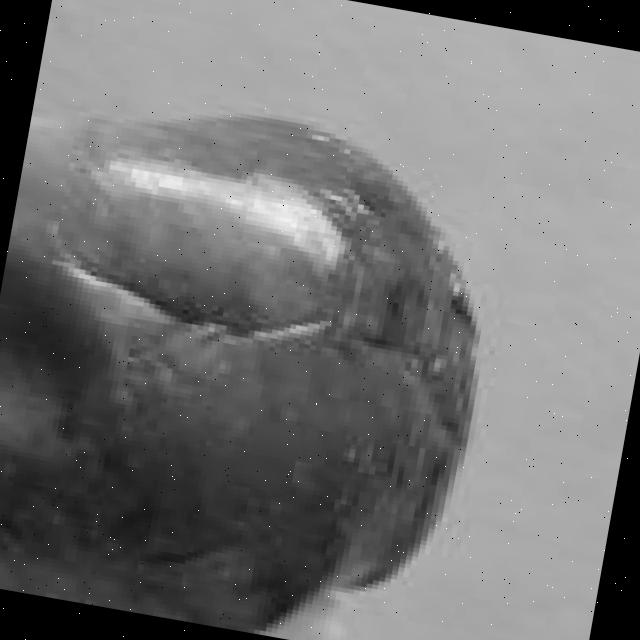Bad_Apple 0-1 day: (0, 123, 476, 630)
